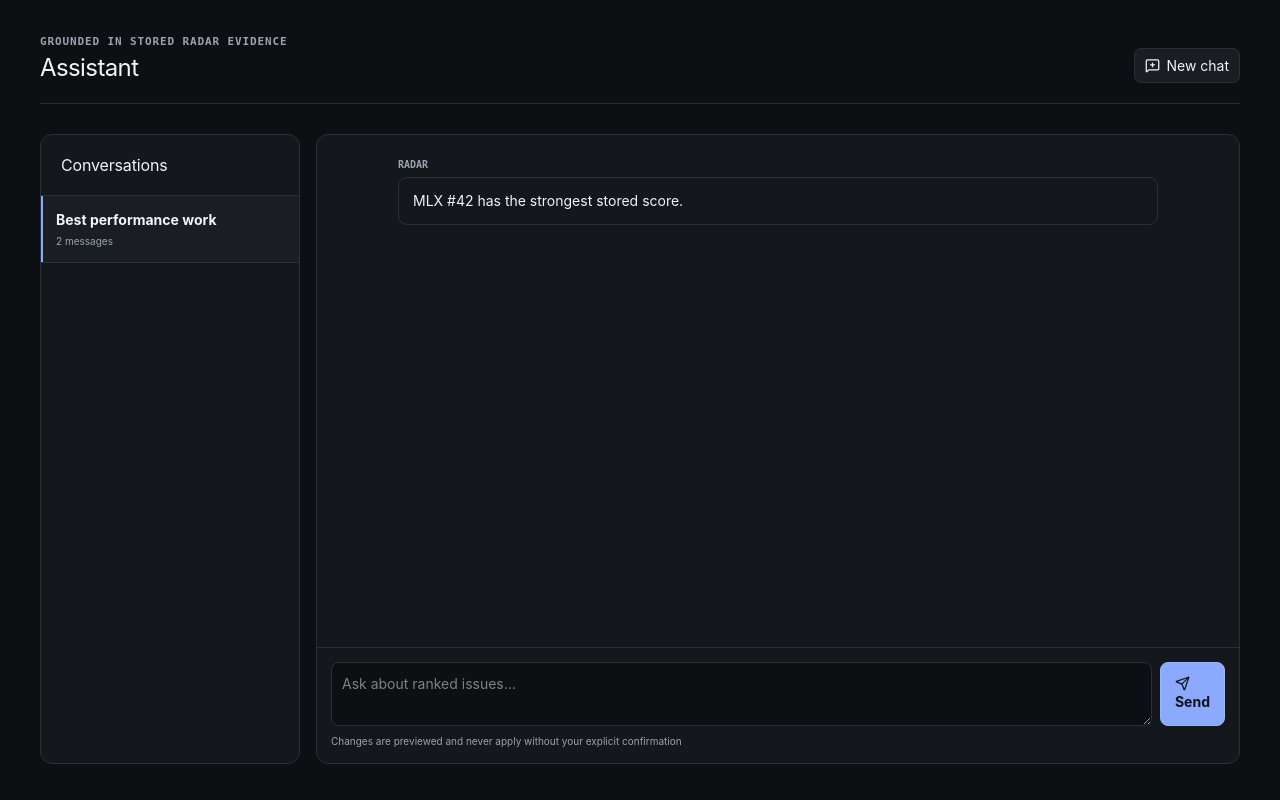
isolates a missing provider key to the assistant
Expected: the text "Best performance work" is shown, [56,211,216,228]
Type "Hello" into the text box named "Message Radar" at (741, 694), box [331,662,1152,726]
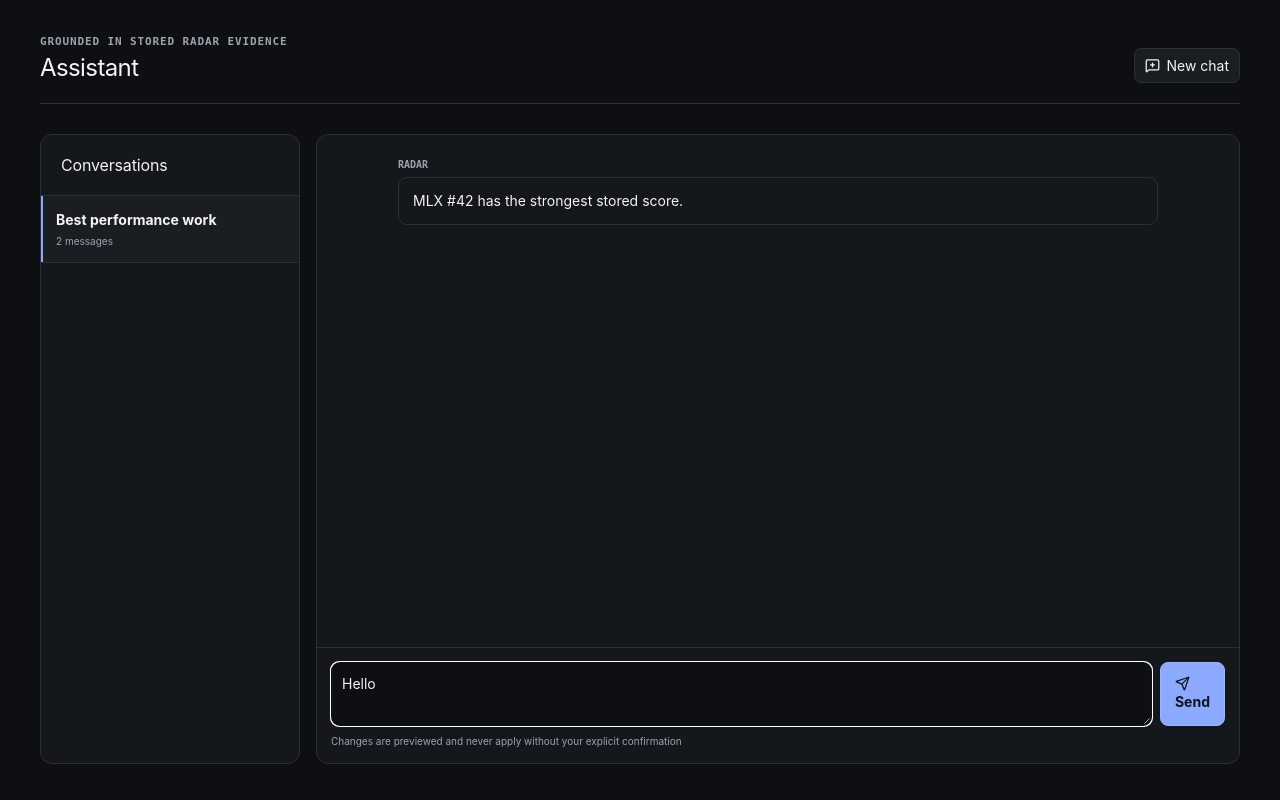
Click the button "Send" at (1192, 694), box [1160,662,1225,726]
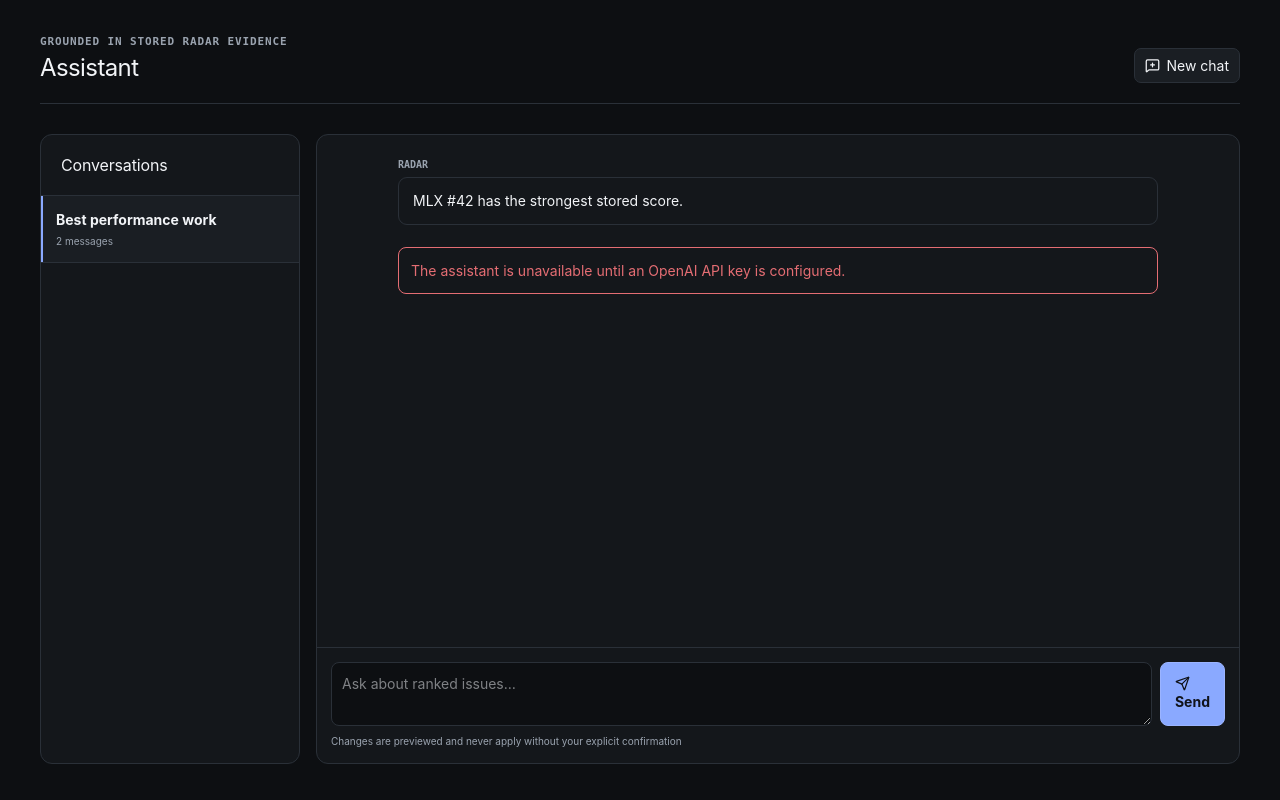
Result: the text "unavailable until an OpenAI API key" is shown at [411,262,845,279]
